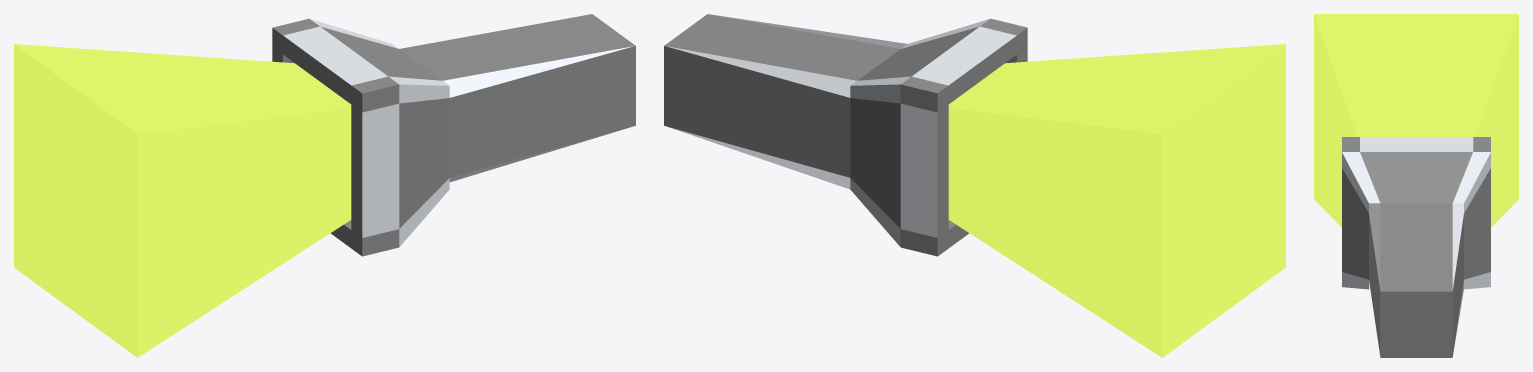
The model's file is senter.glb.
The picture shows the model from 3 angles, left to right: view 1: azimuth 30°, elevation 25°; view 2: azimuth 150°, elevation 25°; view 3: azimuth 270°, elevation 25°; orthographic projection. The views are drawn at different scales.
Parts seen in each view (by area): view 1: Cube.001, Cube; view 2: Cube.001, Cube; view 3: Cube.001, Cube.
Part boxes in pixels (bbox=[...]): Cube.001: bbox=[14, 44, 351, 357]; Cube: bbox=[272, 14, 635, 256]; Cube.001: bbox=[948, 44, 1285, 357]; Cube: bbox=[664, 14, 1027, 256]; Cube.001: bbox=[1314, 14, 1518, 227]; Cube: bbox=[1342, 137, 1490, 357].
Size of the model in its own units: 10.86 by 4.31 by 4.31.
